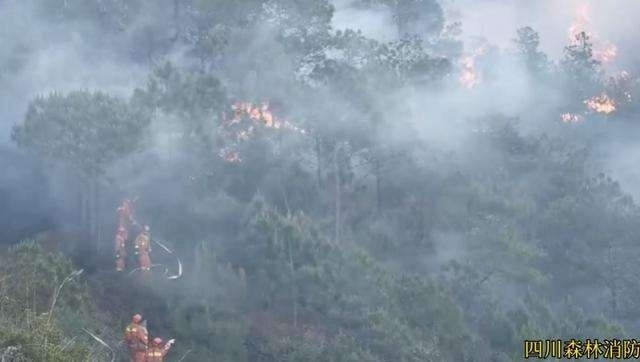fire: (560, 6, 635, 117), (214, 94, 306, 156), (559, 90, 621, 123), (454, 45, 490, 89)
